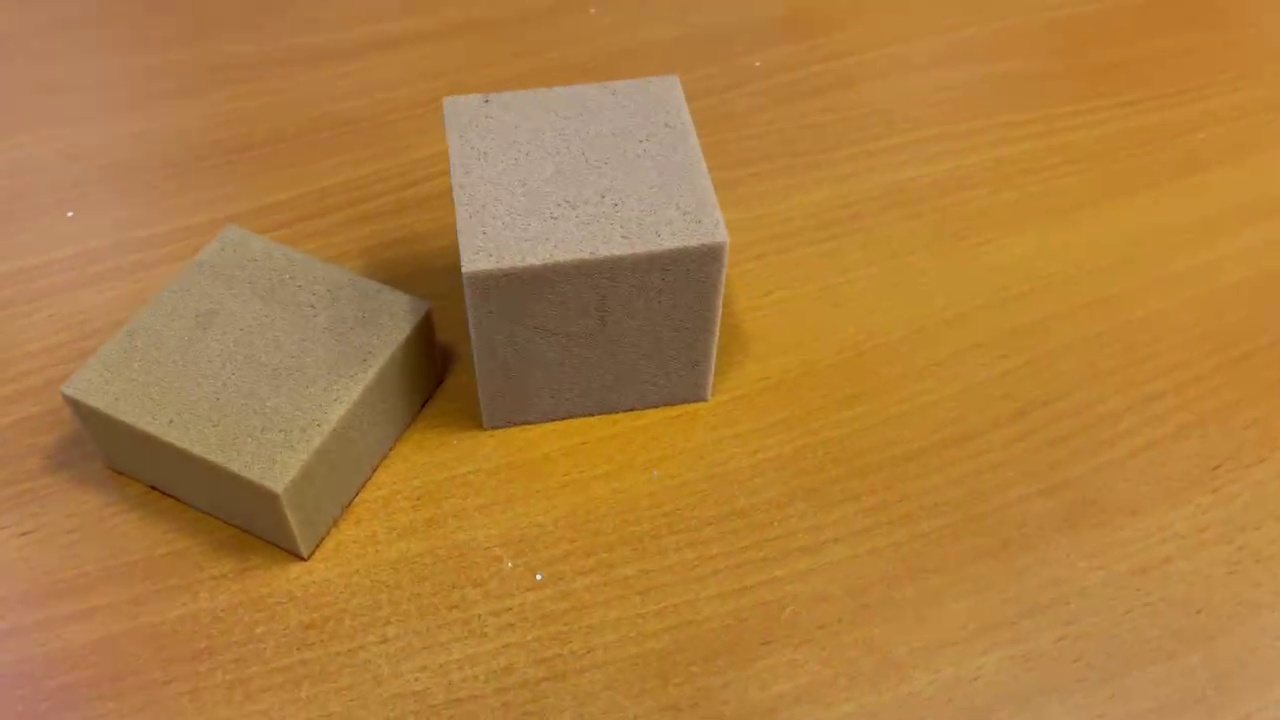Cube: (434, 72, 738, 443)
Cube_short: (58, 219, 447, 569)
